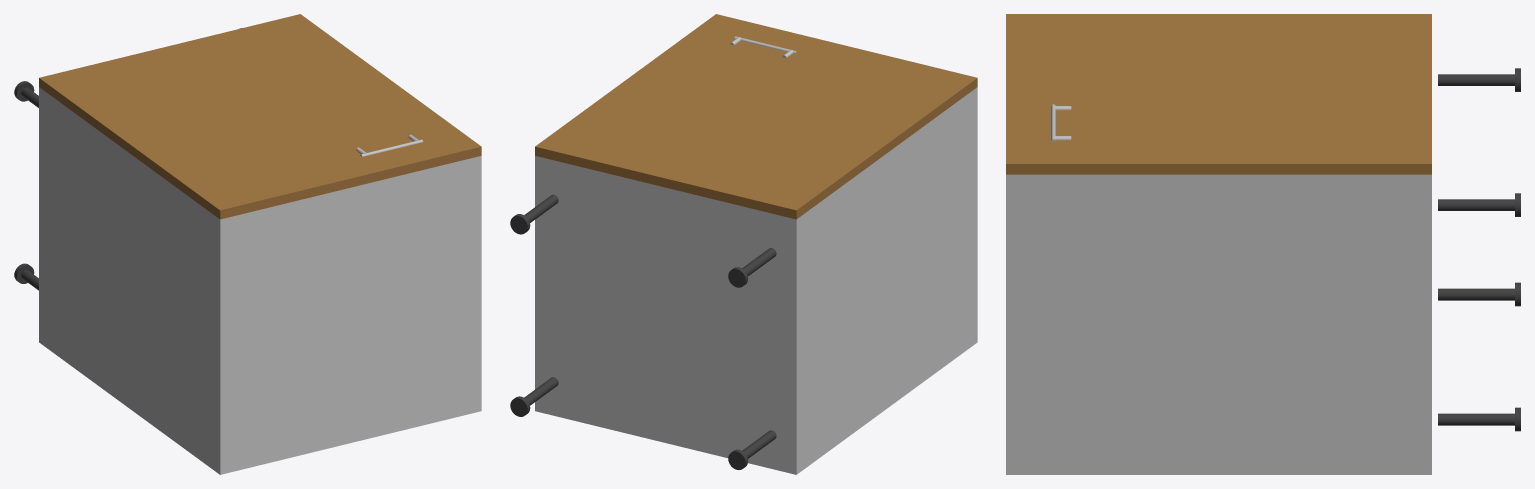
Rendered from hybrid_kitchen_test.glb.
3 views of the same model, side by side, from view 1: azimuth 30°, elevation 25°; view 2: azimuth 150°, elevation 25°; view 3: azimuth 270°, elevation 25° (orthographic). The views are drawn at different scales.
Visible parts, largest first — view 1: world; view 2: world; view 3: world.
Part boxes in pixels (left/top/right/bottom): world: left=14, top=14, right=481, bottom=474; world: left=510, top=14, right=977, bottom=474; world: left=1006, top=14, right=1520, bottom=474.
Size of the model in its own units: 60 by 58.5 by 87.
